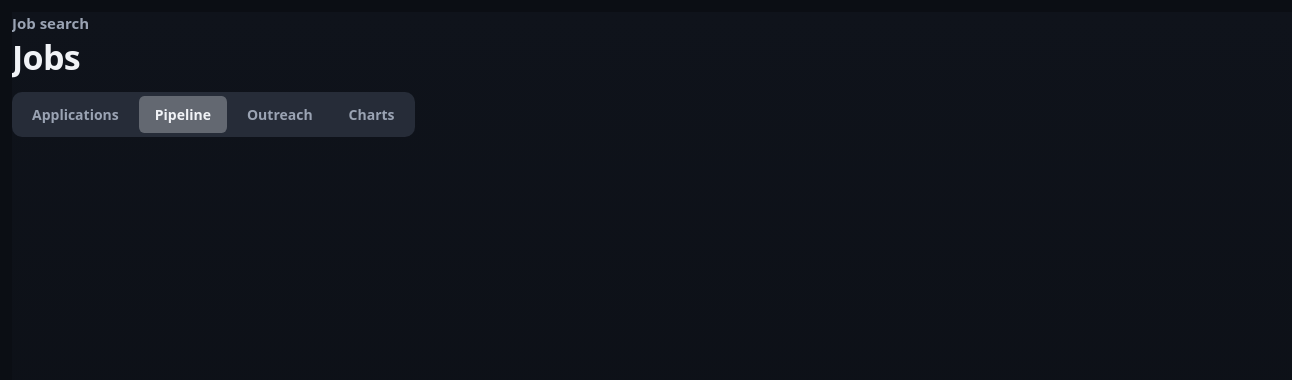
Jobs with nothing in the vault › explains the outreach log
What coordinates should you click on to do the following:
click the tab "Outreach"
I would click on:
 (280, 114)
Its box is x1=231 y1=96 x2=329 y2=133.
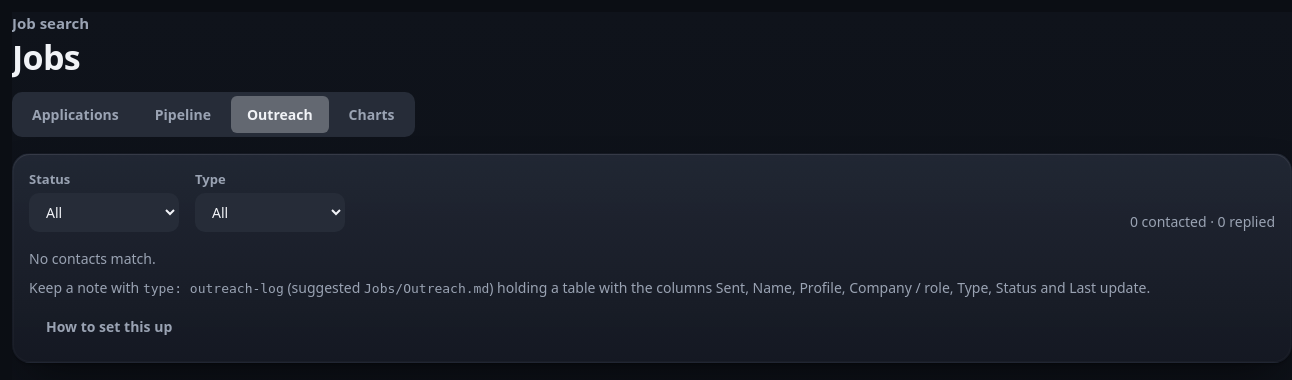
Expected: the text "type: outreach-log" is shown, x1=143 y1=281 x2=284 y2=296
